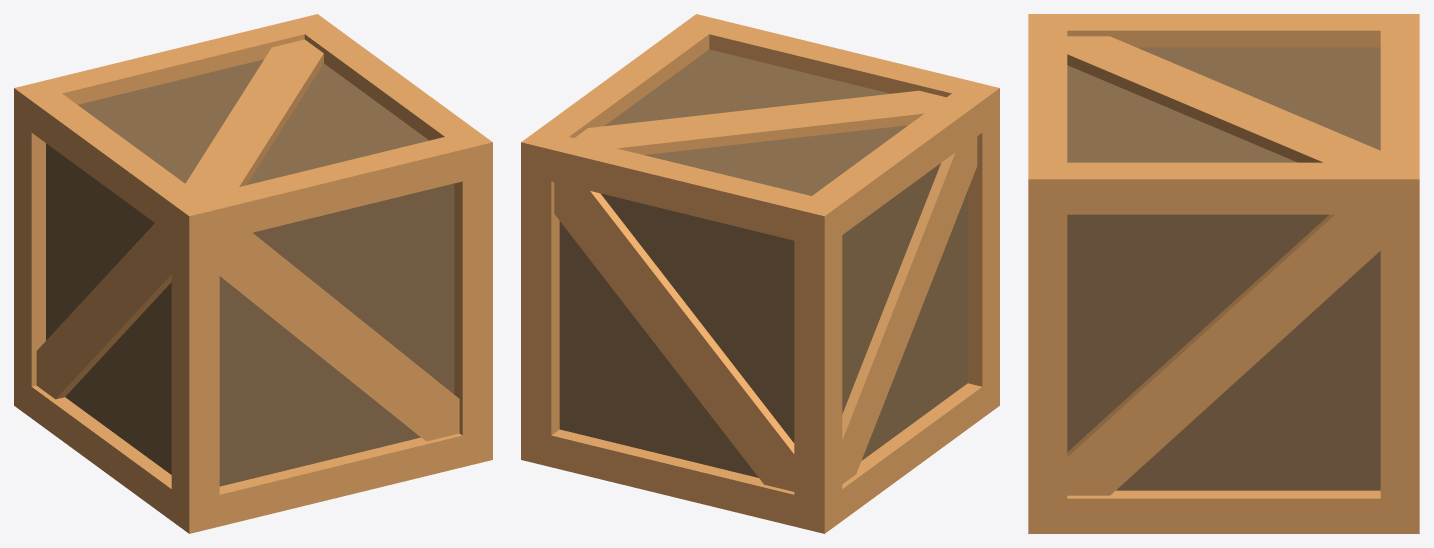
The model's file is Assets.fbx_Crate.fbx.
The picture shows the model from 3 angles, left to right: view 1: azimuth 30°, elevation 25°; view 2: azimuth 150°, elevation 25°; view 3: azimuth 270°, elevation 25°; orthographic projection. The views are drawn at different scales.
Parts seen in each view (by area): view 1: Crate; view 2: Crate; view 3: Crate.
Part boxes in pixels (<box>): Crate: <box>14,14,492,533</box>; Crate: <box>521,14,999,533</box>; Crate: <box>1028,14,1419,533</box>.
Size of the model in its own units: 80 by 80 by 80.
